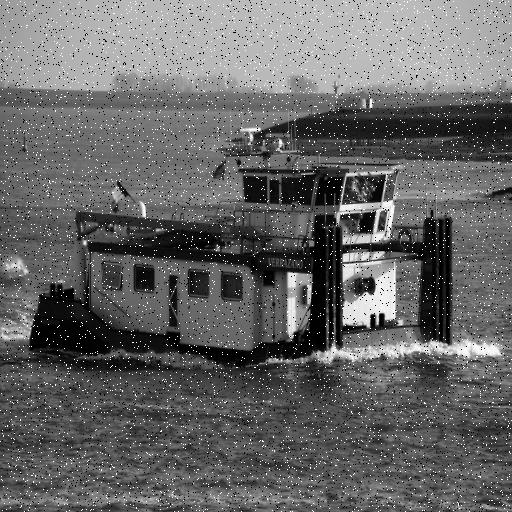tugboat: (27, 125, 458, 385)
